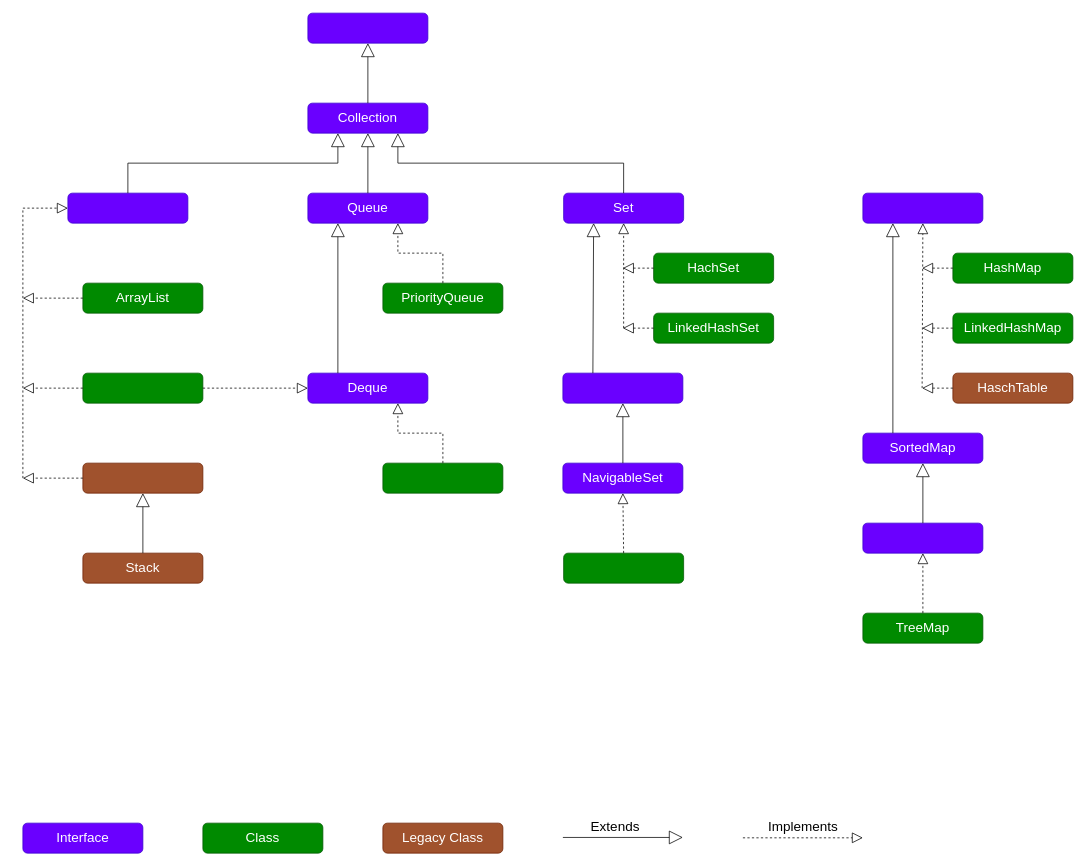
Image size: 1086x866. Some labels were removed from this diagram. Here are the shapes that lost their labels. From the top down, the box of each, then its label:
(307, 12, 428, 43): Iterable
(67, 192, 188, 223): List
(862, 192, 983, 223): Map
(82, 372, 203, 403): LinkedList
(562, 372, 683, 403): SortedSet
(82, 462, 203, 493): Vector
(382, 462, 503, 493): ArrayDeque
(862, 522, 983, 553): NavigableMap
(563, 552, 684, 583): TreeSet
